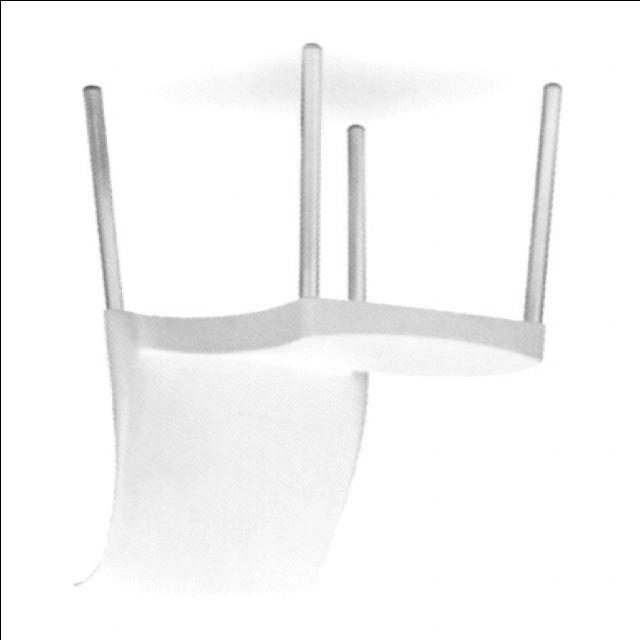chair: (82, 44, 566, 618)
